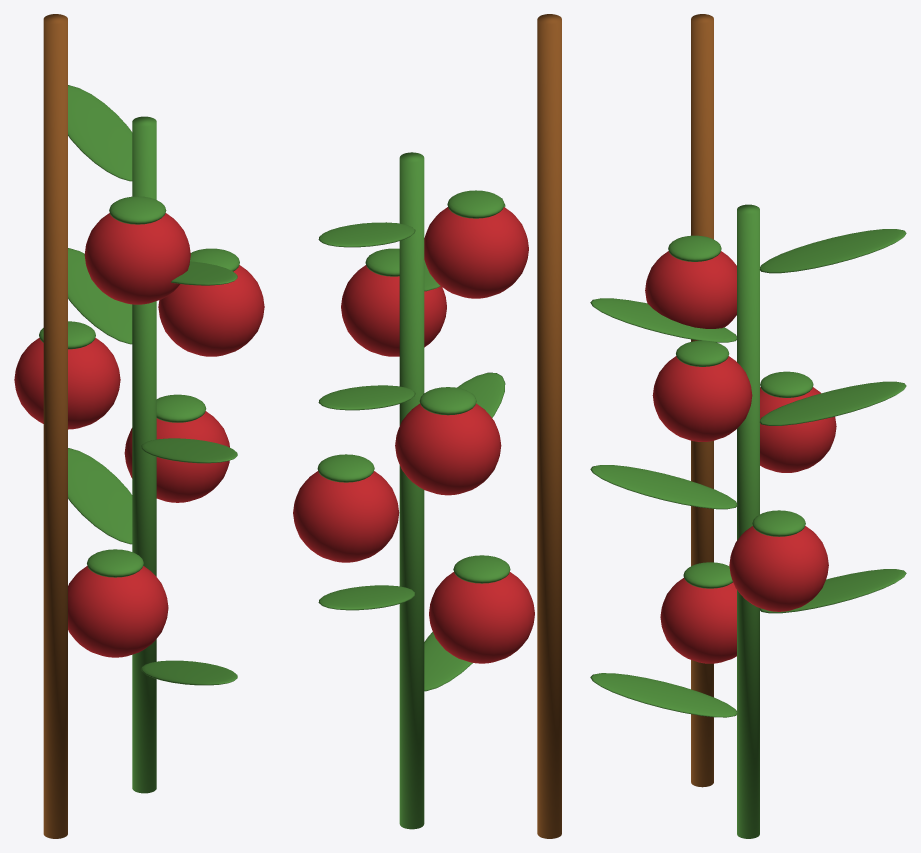
File: SM_Tomato.fbx
3 renders of one model, left to right at view 1: azimuth 30°, elevation 25°; view 2: azimuth 150°, elevation 25°; view 3: azimuth 270°, elevation 25°, orthographic. The views are drawn at different scales.
Visible parts, largest first — view 1: Stake, Stem.001, Fruit_4, Fruit_0, Fruit_3, Fruit_2, Fruit_1, Leaf_5, Leaf_1.001, Leaf_3, Leaf_0.001, Leaf_2 (+6 smaller); view 2: Stake, Stem.001, Fruit_1, Fruit_2, Fruit_0, Fruit_4, Fruit_3, Leaf_1.001, Leaf_3, Leaf_5, Leaf_0.001, Calyx_0 (+5 smaller); view 3: Stem.001, Stake, Fruit_1, Fruit_3, Fruit_4, Fruit_0, Fruit_2, Leaf_0.001, Leaf_5, Leaf_2, Leaf_3, Leaf_4 (+6 smaller).
Boxes of the visible parts, x1,y1,x2,y2 form: Stake: [43, 14, 67, 838]; Stem.001: [132, 116, 156, 793]; Fruit_4: [84, 213, 190, 304]; Fruit_0: [68, 566, 168, 657]; Fruit_3: [158, 265, 264, 356]; Fruit_2: [14, 338, 120, 429]; Fruit_1: [124, 411, 229, 502]; Leaf_5: [68, 85, 132, 181]; Leaf_1.001: [68, 448, 132, 544]; Leaf_3: [68, 248, 132, 344]; Leaf_0.001: [141, 660, 237, 685]; Leaf_2: [141, 438, 237, 463]; Stake: [537, 14, 561, 838]; Stem.001: [399, 152, 424, 829]; Fruit_1: [293, 471, 399, 562]; Fruit_2: [395, 403, 501, 495]; Fruit_0: [429, 572, 534, 663]; Fruit_4: [424, 207, 528, 298]; Fruit_3: [341, 265, 446, 356]; Leaf_1.001: [318, 585, 415, 610]; Leaf_3: [318, 385, 415, 410]; Leaf_5: [318, 222, 415, 247]; Leaf_0.001: [424, 632, 472, 691]; Calyx_0: [453, 555, 510, 583]; Stem.001: [737, 204, 759, 838]; Stake: [691, 14, 713, 787]; Fruit_1: [729, 526, 828, 611]; Fruit_3: [652, 356, 752, 441]; Fruit_4: [645, 251, 736, 328]; Fruit_0: [660, 578, 736, 663]; Fruit_2: [760, 387, 836, 472]; Leaf_0.001: [590, 673, 737, 717]; Leaf_5: [759, 229, 906, 273]; Leaf_2: [590, 465, 737, 509]; Leaf_3: [759, 381, 906, 425]; Leaf_4: [590, 298, 737, 342].
Size of the model in its own units: 0.31 by 1.1 by 0.4132.
